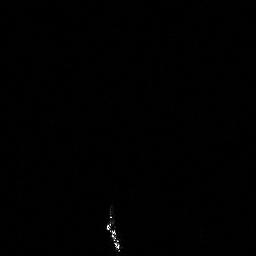ship: (102, 203, 127, 256)
